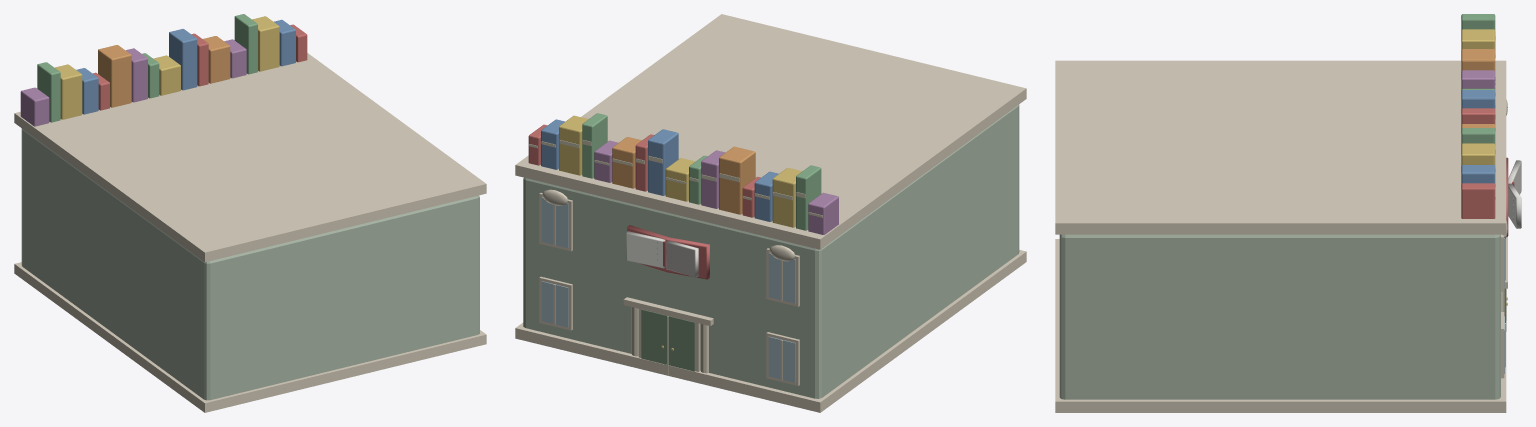
Rendered from centro-biblioteca-5750a7ae.glb.
The picture shows the model from 3 angles, left to right: view 1: azimuth 30°, elevation 25°; view 2: azimuth 150°, elevation 25°; view 3: azimuth 270°, elevation 25°; orthographic projection. The views are drawn at different scales.
Visible parts, largest first — view 1: centro_biblioteca_body; view 2: centro_biblioteca_body, centro_biblioteca_glow; view 3: centro_biblioteca_body, centro_biblioteca_glow.
Boxes of the visible parts, x1,y1,x2,y2 form: centro_biblioteca_body: (14,14,486,412); centro_biblioteca_body: (515,14,1026,412); centro_biblioteca_glow: (626,225,709,279); centro_biblioteca_body: (1055,14,1507,412); centro_biblioteca_glow: (1506,157,1521,236).
Size of the model in its own units: 13.7 by 9.7 by 16.59.
